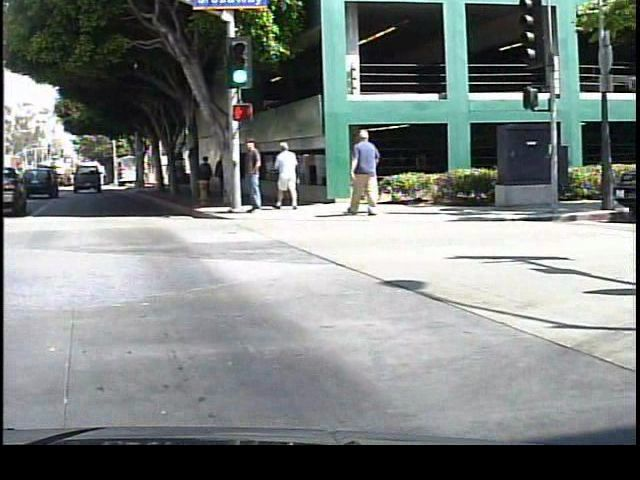person: (344, 125, 385, 216), (237, 133, 266, 220), (271, 138, 302, 212), (197, 151, 213, 199)
